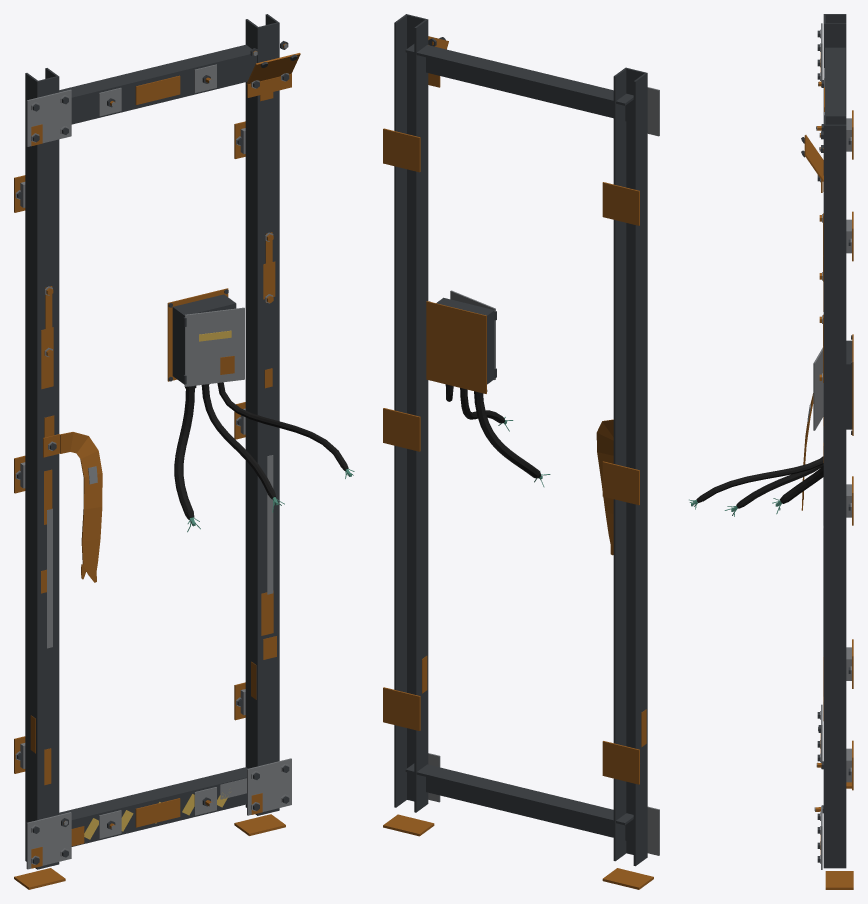
File: oxygen_mount_empty.fbx
3 views of the same model, side by side, from view 1: azimuth 30°, elevation 25°; view 2: azimuth 150°, elevation 25°; view 3: azimuth 270°, elevation 25° (orthographic). The views are drawn at different scales.
Parts seen in each view (by area): view 1: OxygenMountEmpty; view 2: OxygenMountEmpty; view 3: OxygenMountEmpty.
Part boxes in pixels (x1,y1,x2,y2): OxygenMountEmpty: (14,14,354,889); OxygenMountEmpty: (383,14,659,889); OxygenMountEmpty: (689,14,853,889).
Size of the model in its own units: 72 by 210 by 41.29.
